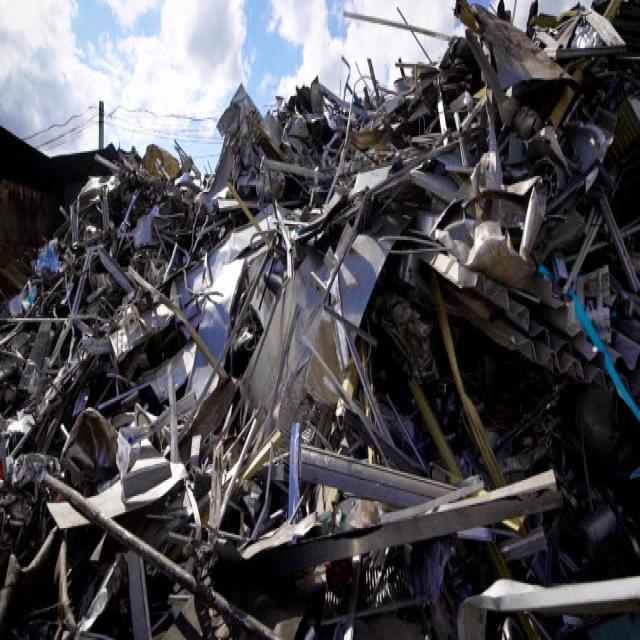metal: (329, 110, 595, 539), (12, 172, 310, 544)
